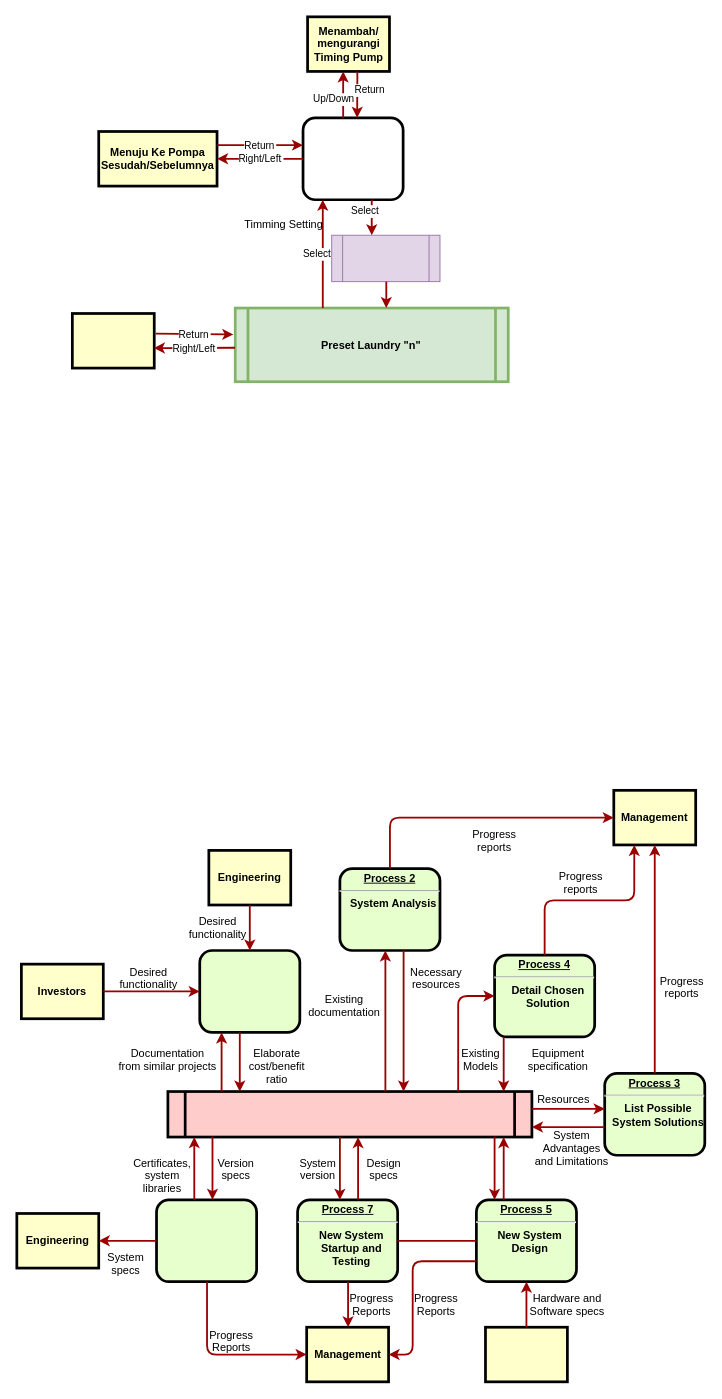
Some shapes in this 722 by 1399 pixel diagram are drawn without their labels. The shapes that lost their labels are listed below. From the top down, each one's box as (x1, y1, x2, y2) in pixels, then its label:
(301, 116, 404, 201): Preset '1' p1 - ..pn dalam Second
(331, 234, 440, 282): Menyimpan nilai Prs1[]:{}; ke EEPROM 1.
(71, 312, 155, 369): Next/Previous Preset
(198, 949, 301, 1033): Process 1 System Study Preparation
(166, 1090, 533, 1138): ON-DEMAND SYSTEM DEVELOPMENT
(155, 1198, 258, 1283): Process 6 New System Construction
(484, 1325, 568, 1383): Vendors
